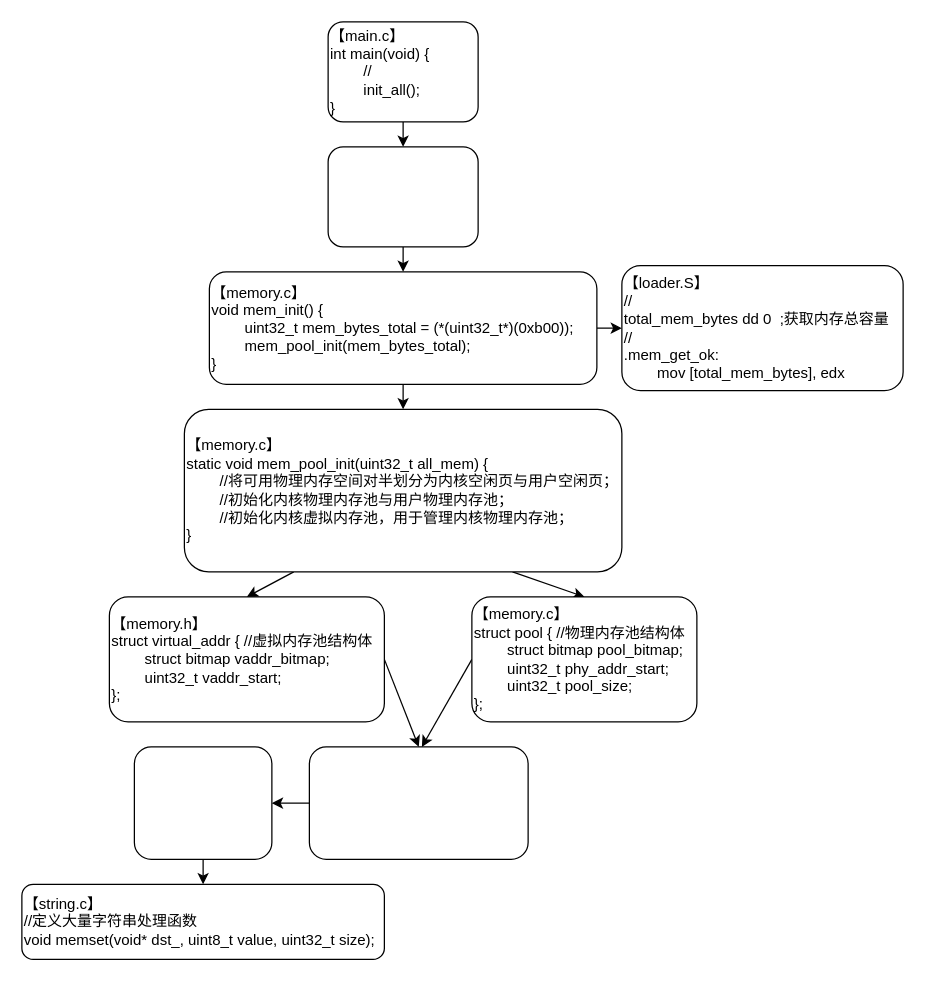
Some shapes in this 925 by 981 pixel diagram are drawn without their labels. Each missing label, with the centre of its shape:
"【bitmap.c】 bitmap_init(); bitmap_scan_test(); bitmap_scan(); bitmap_set();" belongs at [202,802].
"【bitmap.h】 struct bitmap { //位图结构体 uint32_t btmp_bytes_len; uint8_t* bits; }" belongs at [418,802].
"【init.c】 void init_all() { // mem_init(); }" belongs at [402,196].
